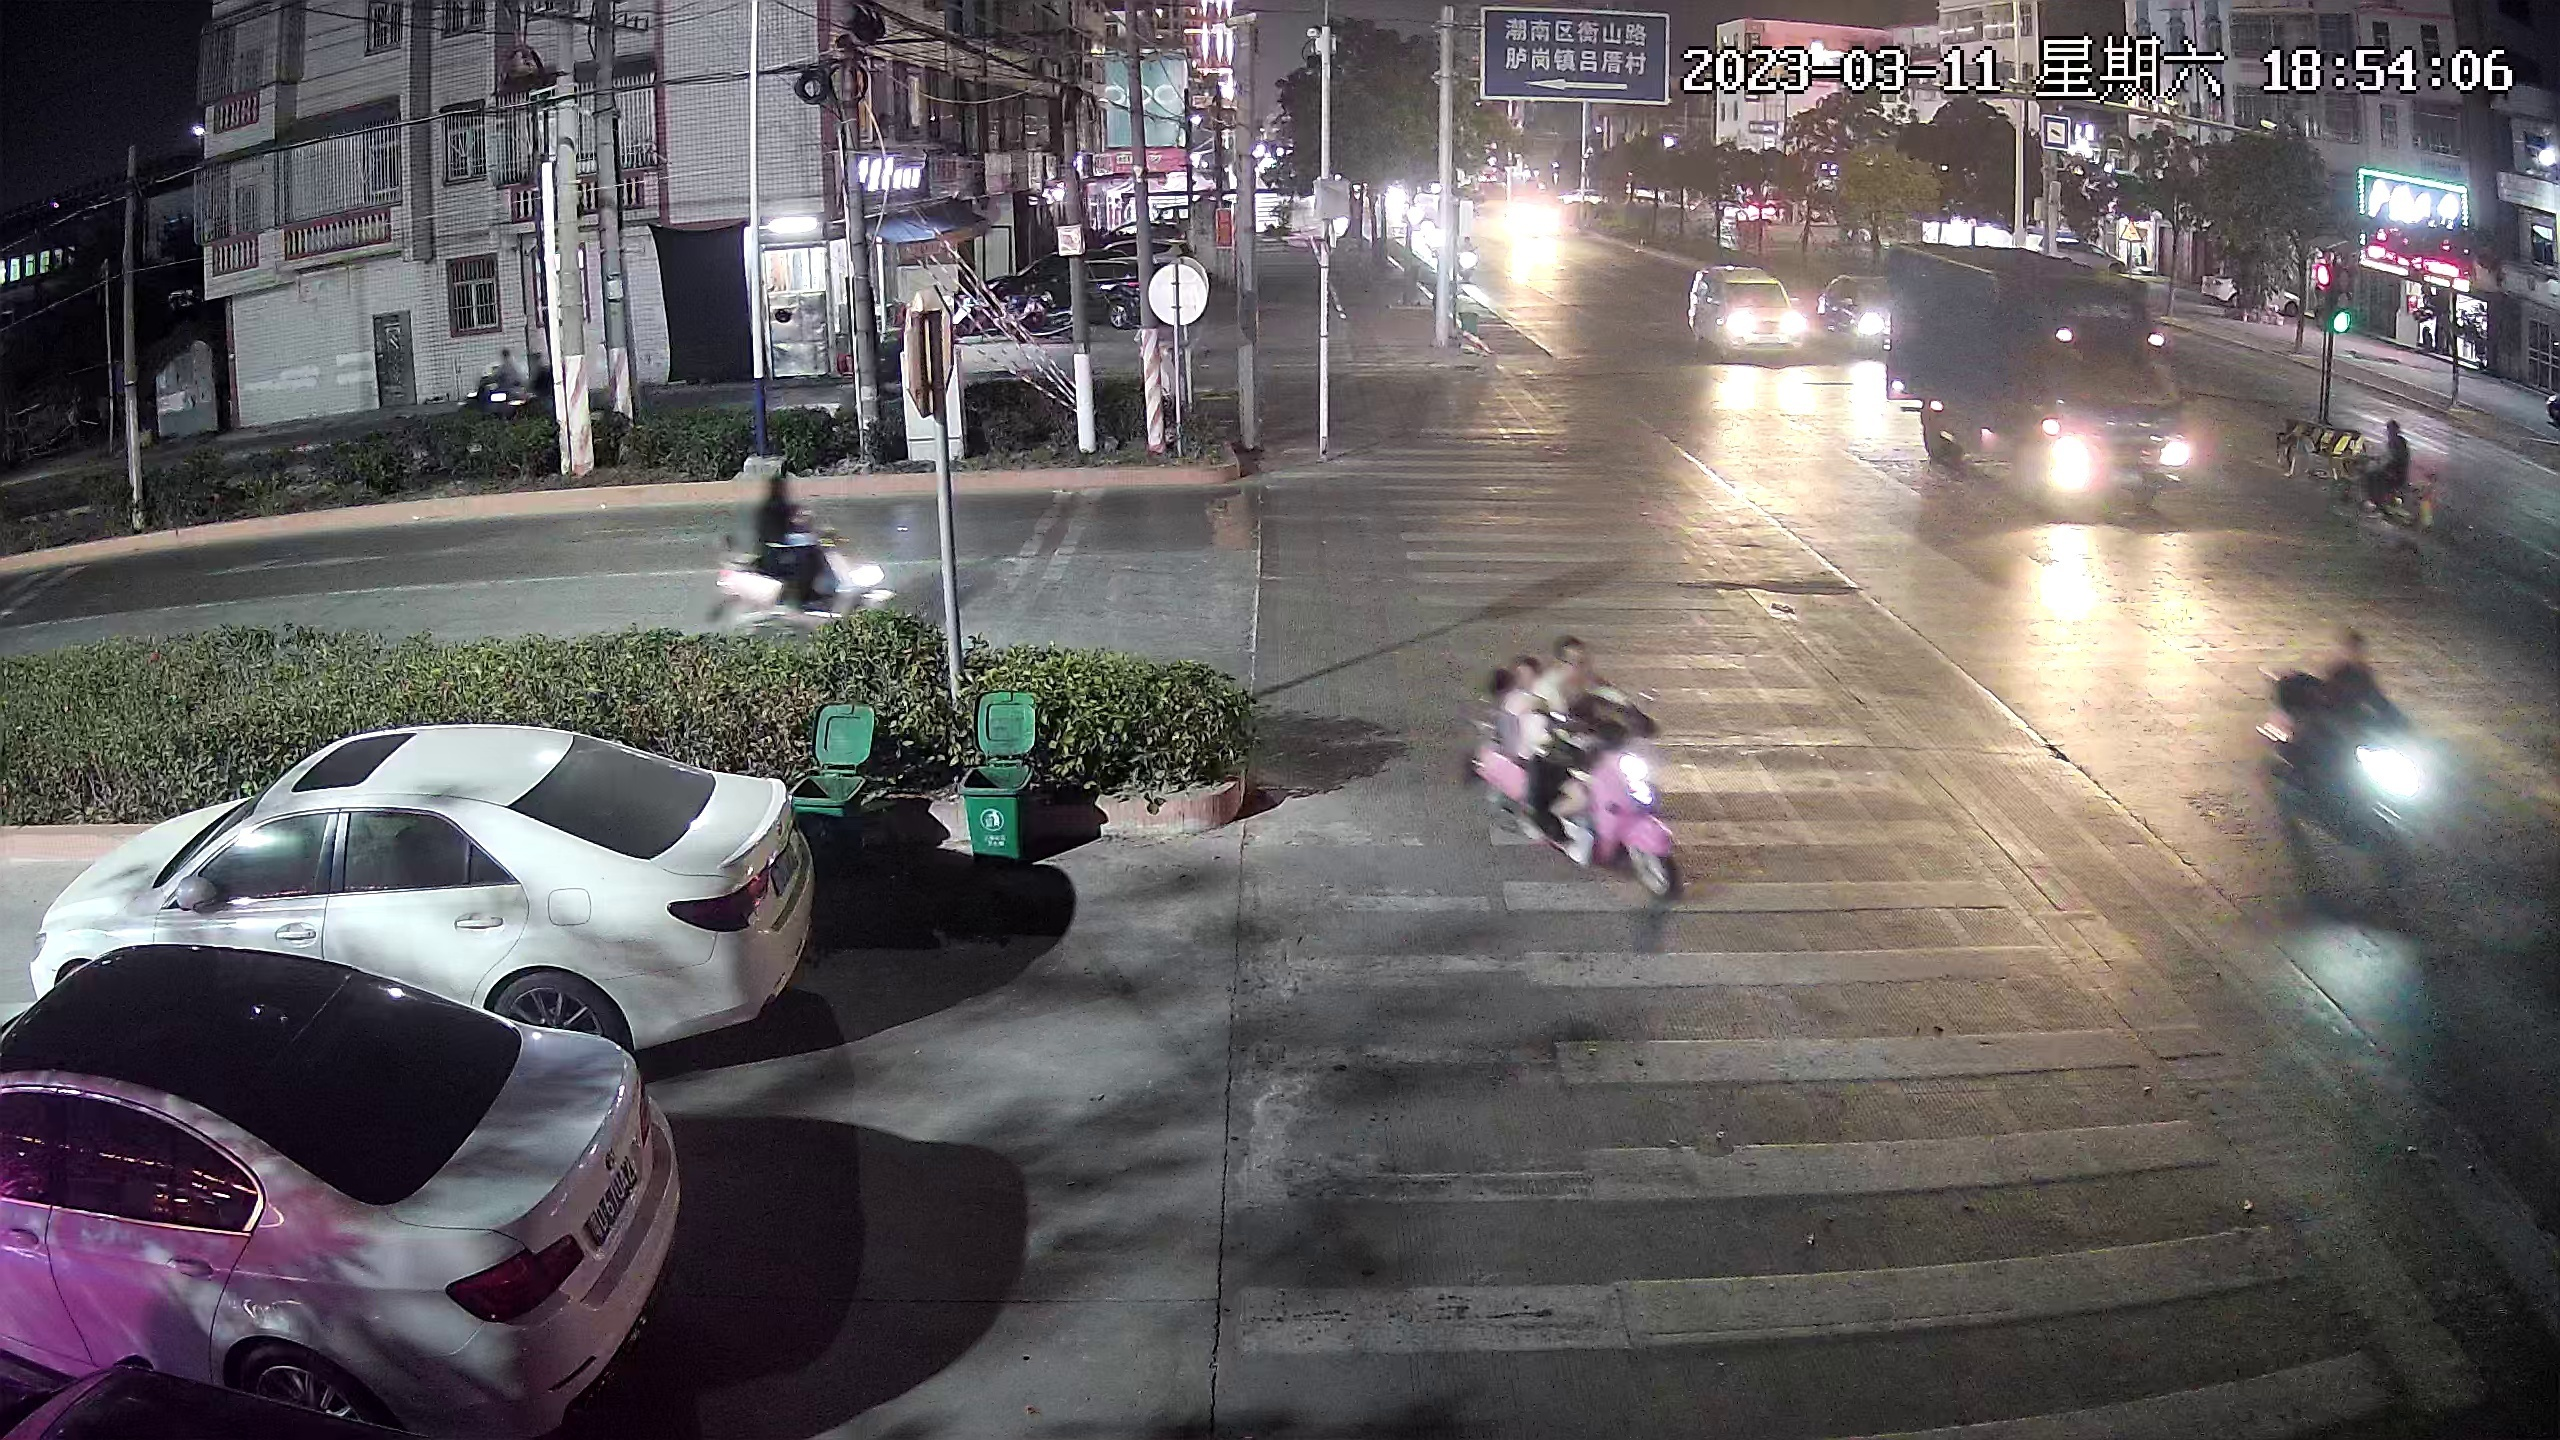head: (1553, 637, 1595, 707)
motorcycle: (1467, 629, 1693, 903), (2270, 620, 2444, 874), (708, 459, 898, 633), (2342, 414, 2444, 543), (460, 352, 547, 419)
sedan: (8, 945, 655, 1398), (27, 715, 808, 1017), (970, 258, 1062, 337), (1819, 268, 1890, 359), (2195, 265, 2302, 318)
suv: (1684, 263, 1812, 367)
truck: (1889, 237, 2192, 522)
